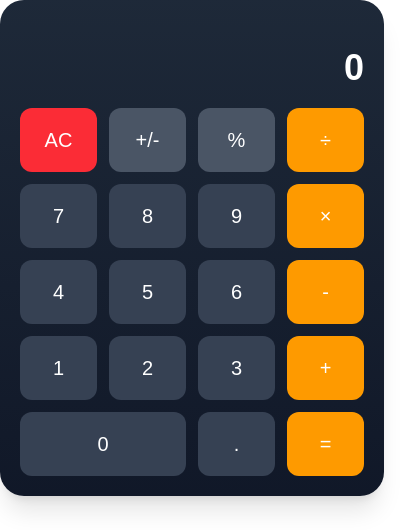
Calculator Component › performs subtraction correctly
The image size is (401, 530).
// Input first number
Click the button "5".
click(148, 292)  # box [109,260,186,324]
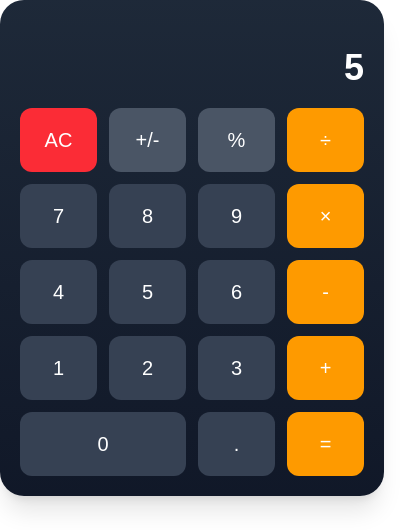
// Select operation
Click the button named "Subtract".
click(326, 292)  # box [287,260,364,324]
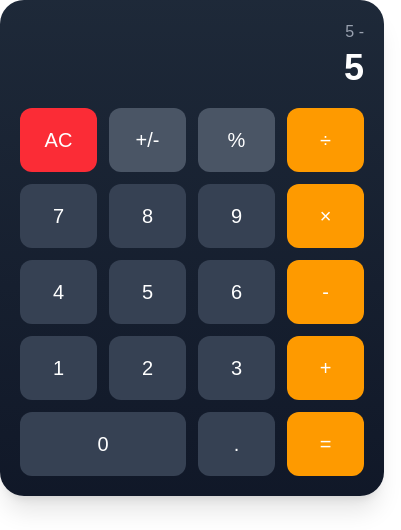
// Input second number
Click the button "3".
click(236, 368)  # box [198,336,275,400]
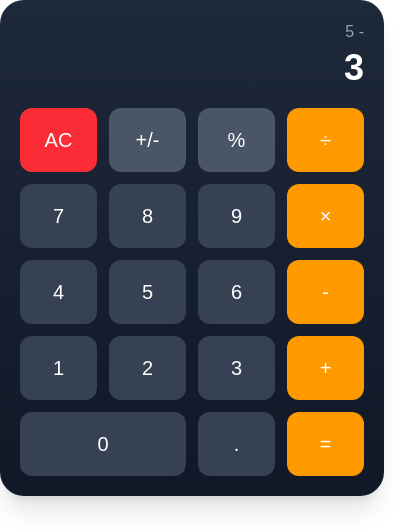
// Perform calculation
Click the button named "Equals".
click(326, 444)  # box [287,412,364,476]
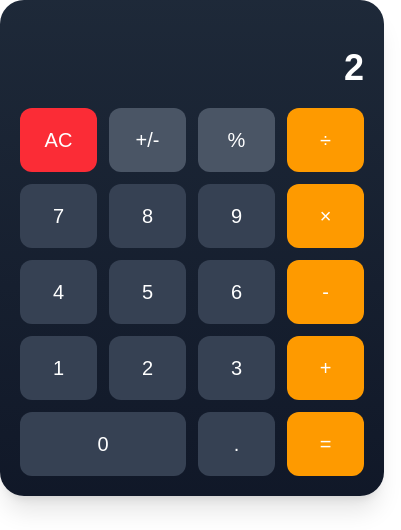
Check: the text with test id "display" reads "2", box [344,47,364,88]
